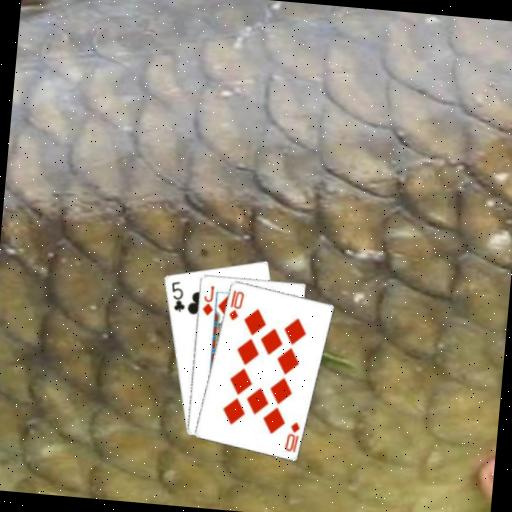10D: (281, 418, 302, 454), (225, 287, 246, 322)
5C: (167, 278, 189, 314)
JD: (199, 282, 217, 317)
